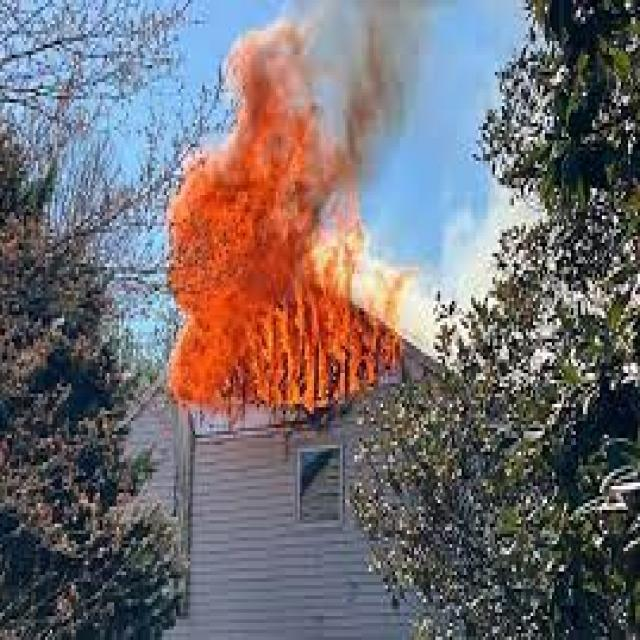Fire: (172, 64, 394, 399)
